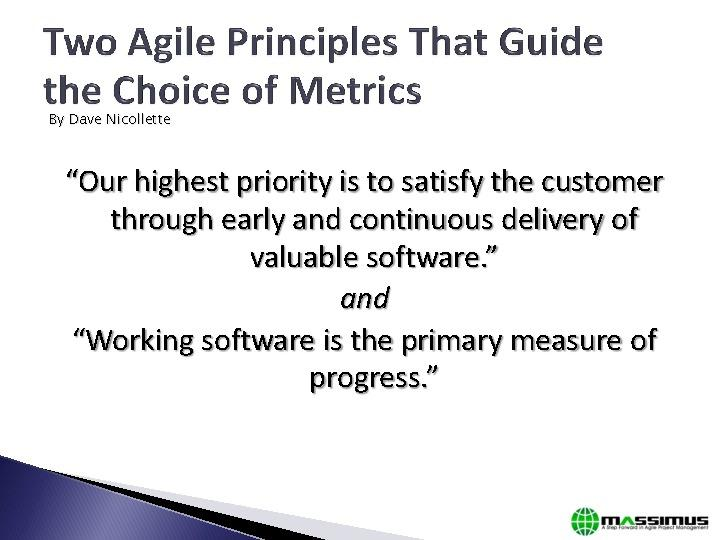paragraph: (31, 143, 691, 401)
title: (37, 17, 638, 106)
